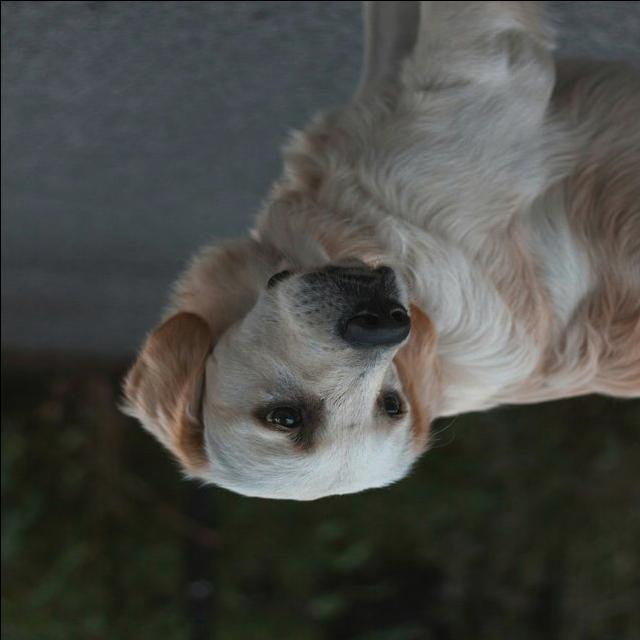retriever: (116, 2, 639, 503)
